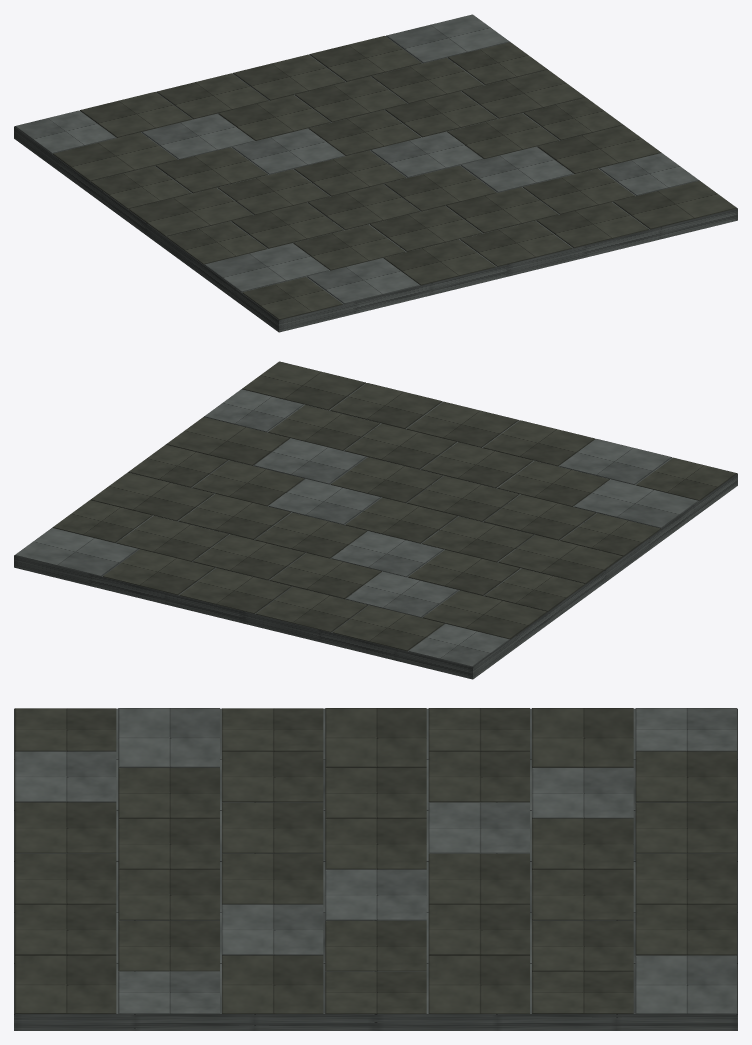
The model's file is floor_stone.glb.
3 views of the same model, one above another, from view 1: azimuth 30°, elevation 25°; view 2: azimuth 150°, elevation 25°; view 3: azimuth 270°, elevation 25° (orthographic). The views are drawn at different scales.
Visible parts, largest first — view 1: Art_StoneLedge, Art_M_Stone, Floor; view 2: Art_StoneLedge, Art_M_Stone, Floor; view 3: Art_StoneLedge, Art_M_Stone, Floor.
Part boxes in pixels (box(x1,y1,x2,y2)): Art_StoneLedge: box(53, 36, 736, 319); Art_M_Stone: box(15, 14, 698, 303); Floor: box(14, 36, 737, 332); Art_StoneLedge: box(53, 361, 736, 651); Art_M_Stone: box(15, 389, 698, 666); Floor: box(14, 383, 737, 679); Art_StoneLedge: box(15, 708, 736, 1013); Art_M_Stone: box(15, 708, 736, 1013); Floor: box(14, 708, 737, 1030).
Size of what is drawn, in the model's own units: 4 by 0.1061 by 4.
Materials: 3 (3 with a texture image).
